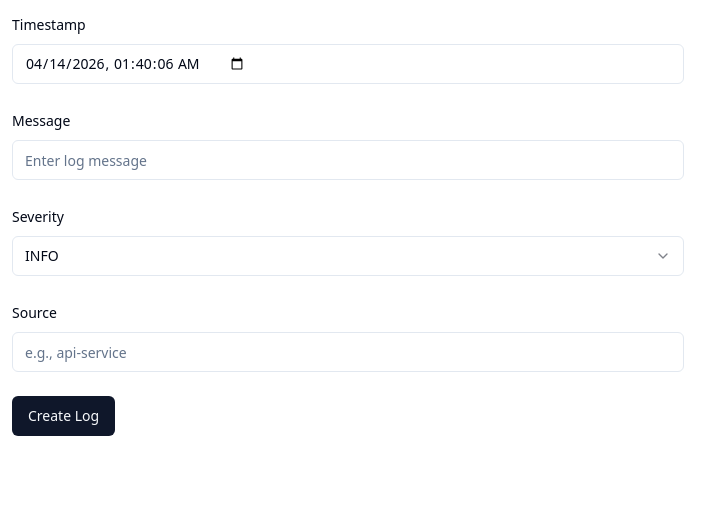
Test case: CreateForm › shows validation error for empty message
Note: Clear the message field and submit
Clear the field labelled "Message" at (348, 160), box [12,140,684,180]
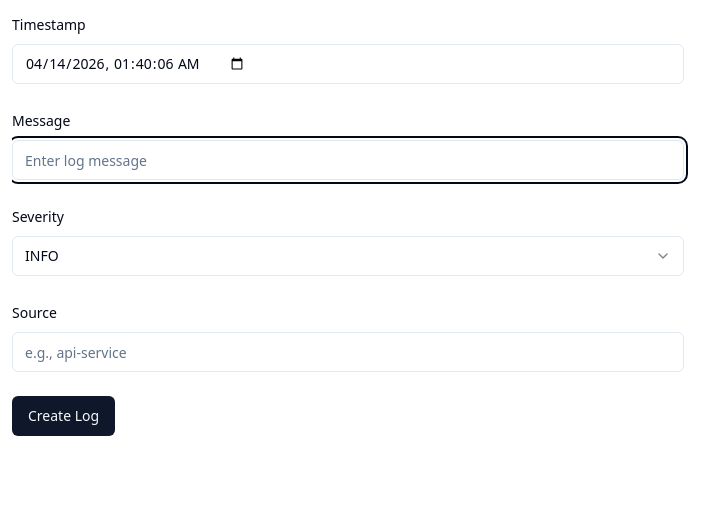
Click the button "Create Log".
click(64, 416)  # box [12,396,115,436]
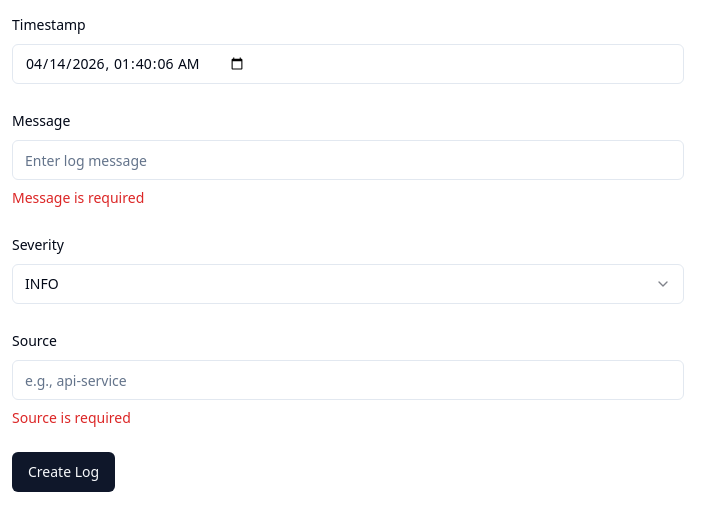
Now the text "Message is required" is shown, box [12,188,144,207]
